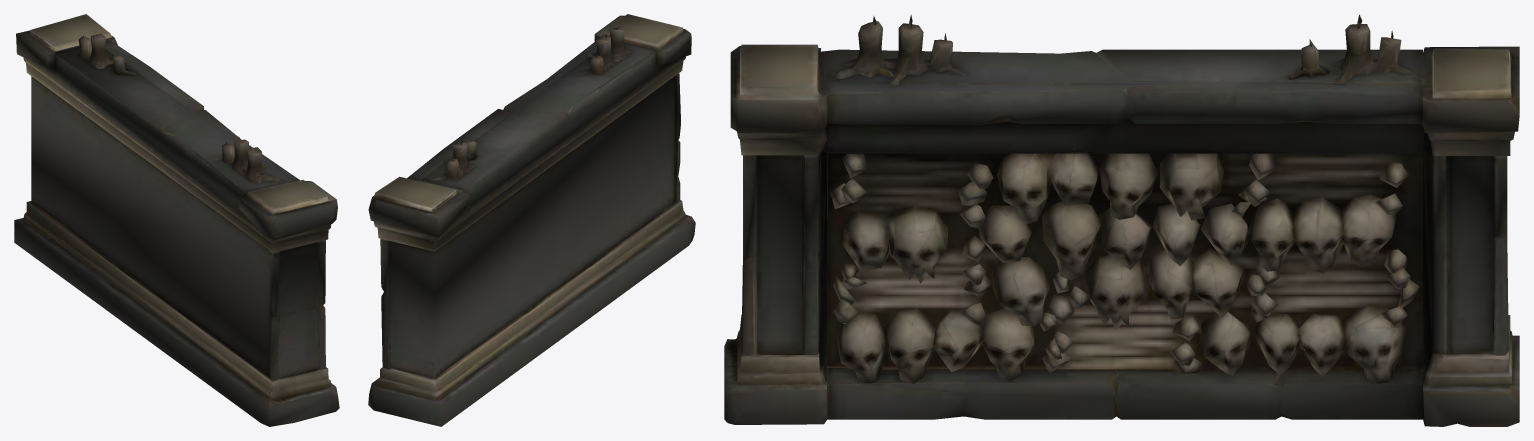
Rendered from skull_wall.glb.
3 renders of one model, left to right at view 1: azimuth 30°, elevation 25°; view 2: azimuth 150°, elevation 25°; view 3: azimuth 270°, elevation 25°, orthographic. The views are drawn at different scales.
Visible parts, largest first — view 1: tripo_node_2dd83e5c-301f-4251-9e60-536dbfa05038; view 2: tripo_node_2dd83e5c-301f-4251-9e60-536dbfa05038; view 3: tripo_node_2dd83e5c-301f-4251-9e60-536dbfa05038.
Boxes of the visible parts, bbox=[...] form: tripo_node_2dd83e5c-301f-4251-9e60-536dbfa05038: bbox=[14, 14, 339, 426]; tripo_node_2dd83e5c-301f-4251-9e60-536dbfa05038: bbox=[368, 14, 695, 426]; tripo_node_2dd83e5c-301f-4251-9e60-536dbfa05038: bbox=[724, 14, 1519, 426].
Size of the model in its own units: 0.1659 by 0.5254 by 0.998.
Materials: 1 (1 with a texture image).
